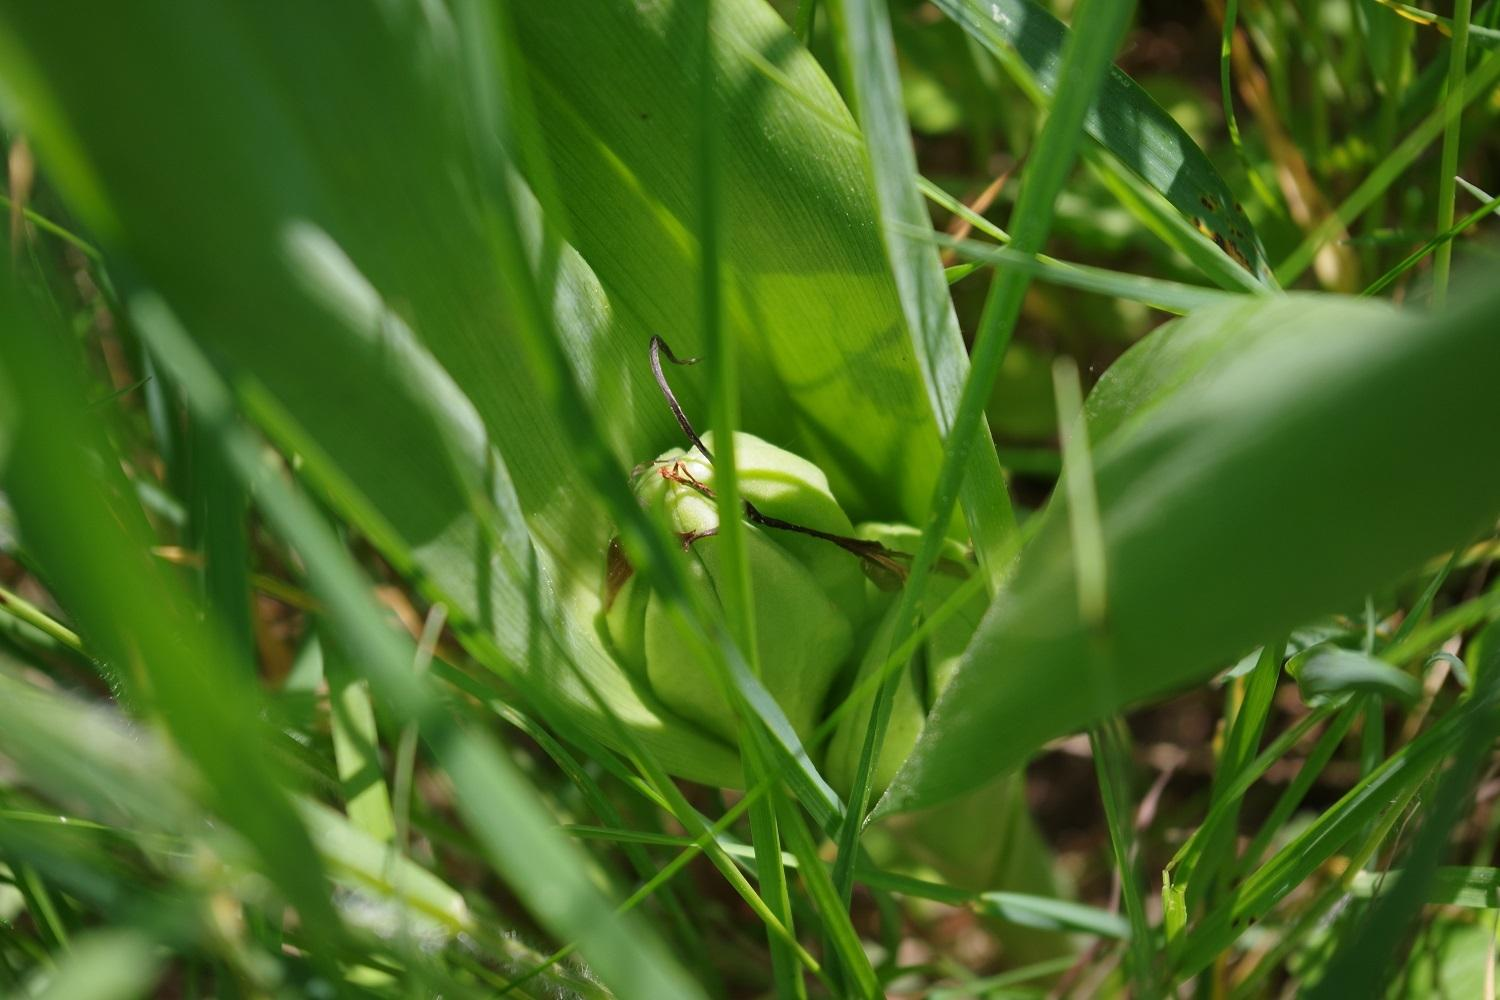Colchicum autumnale L: (217, 32, 1257, 804)
